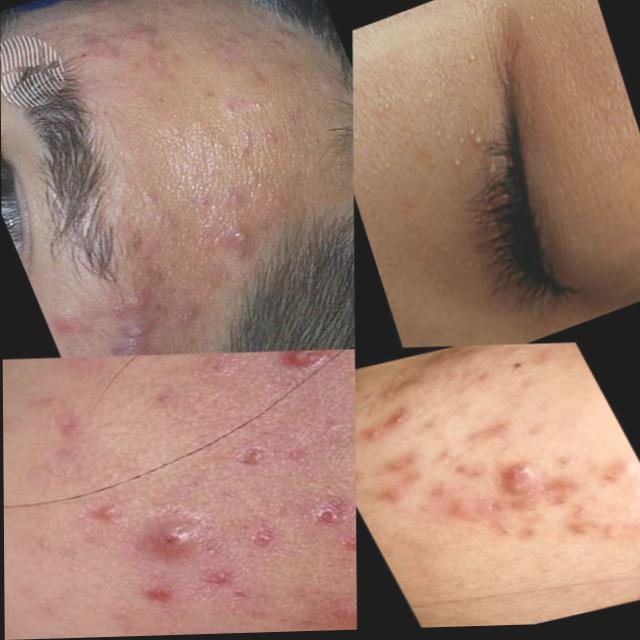7: (440, 33, 488, 82), (514, 6, 552, 35), (461, 117, 489, 155), (455, 252, 481, 282), (473, 75, 499, 105), (431, 122, 457, 149), (483, 157, 507, 184), (448, 152, 471, 177), (379, 152, 399, 180), (380, 99, 398, 123), (494, 0, 517, 16), (452, 132, 470, 151)
8: (188, 19, 256, 89), (47, 304, 94, 355), (71, 21, 119, 64), (121, 19, 165, 56), (371, 483, 414, 512), (377, 454, 420, 482), (92, 0, 123, 24), (445, 504, 477, 527)
9: (214, 221, 266, 260), (79, 497, 130, 534), (355, 408, 366, 434)
blackheads: (259, 350, 353, 398), (38, 401, 103, 452), (372, 407, 431, 436)
pustules: (111, 496, 228, 579), (486, 461, 551, 501), (113, 309, 160, 346), (104, 337, 148, 356)
